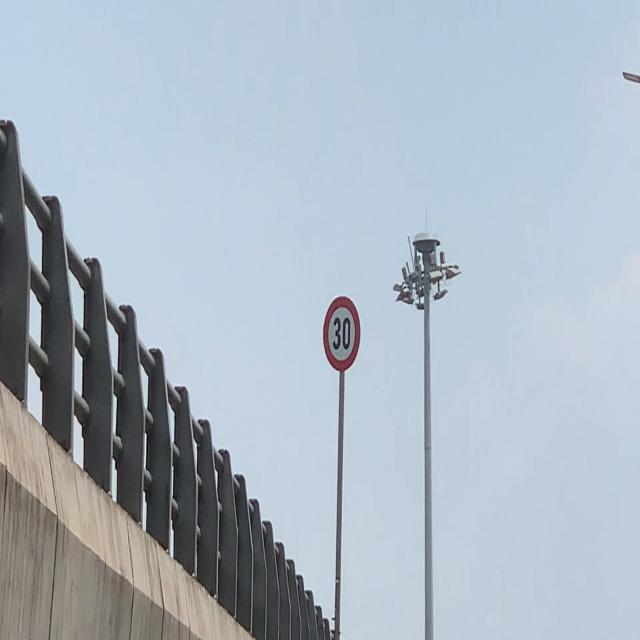Toc do toi da: (323, 296, 361, 372)
